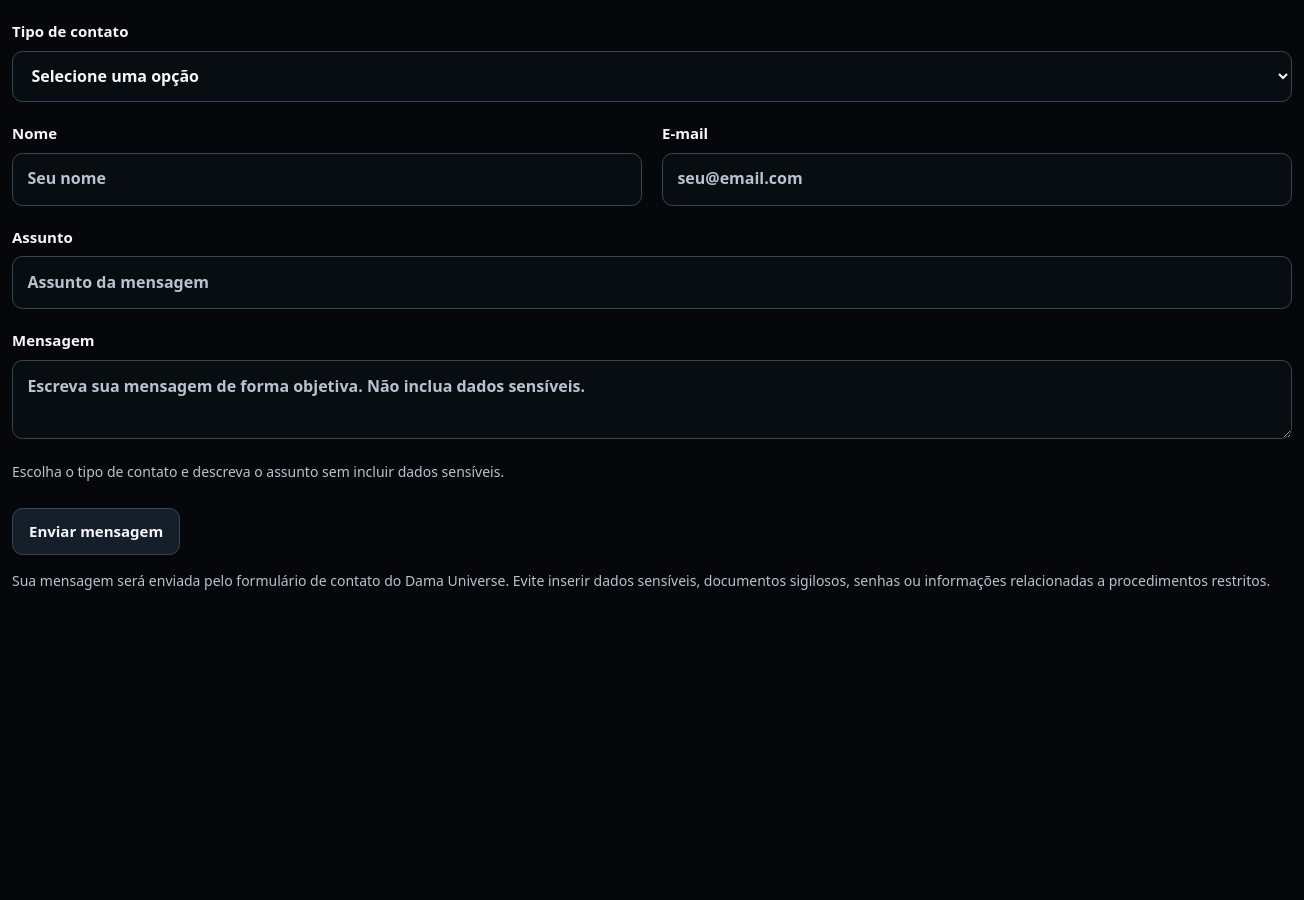
Test case: ContactForm › mostra erro para campos ausentes
Click the button "Enviar mensagem" at (96, 531), box [12,508,180,555]
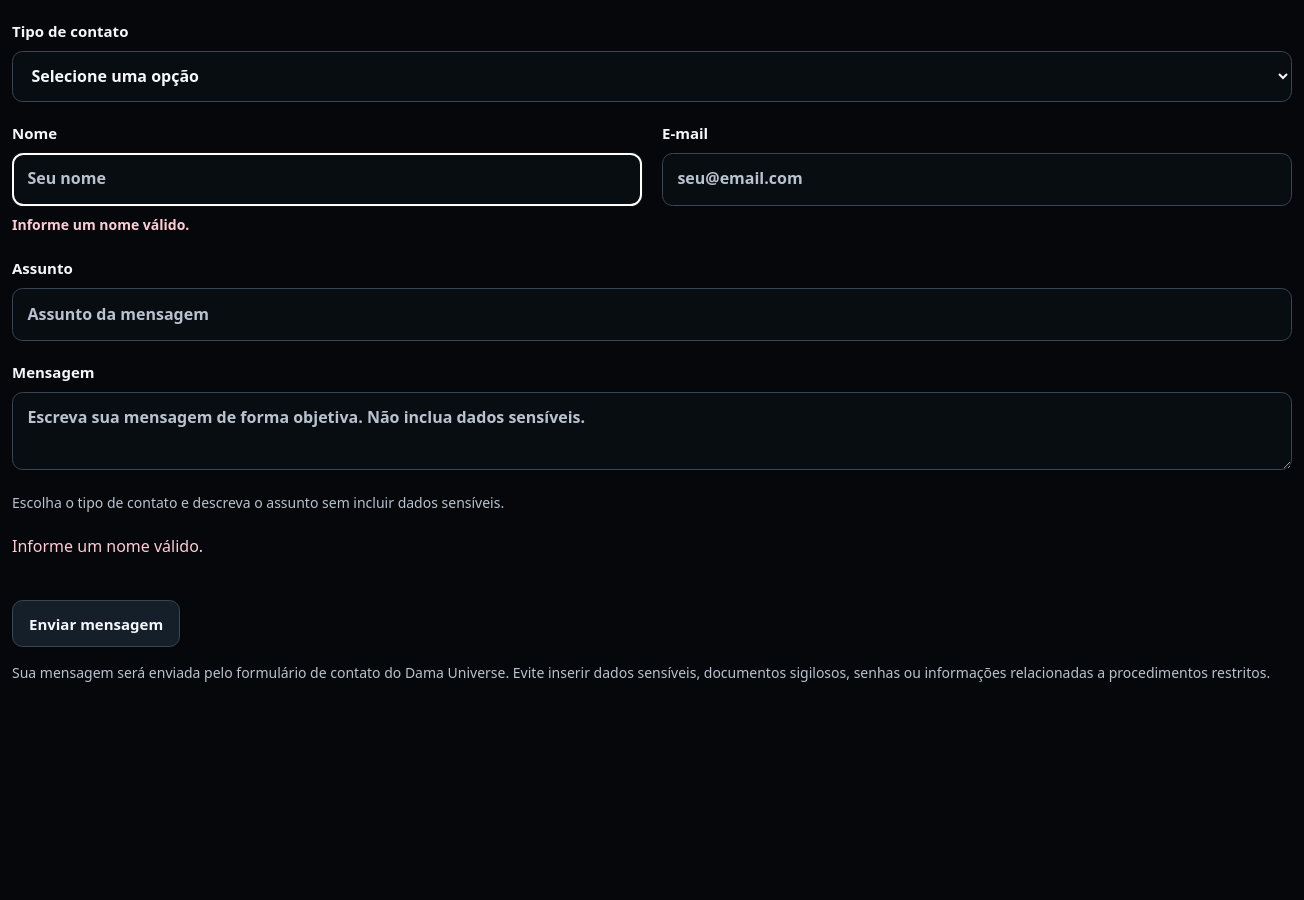
Check: the message reads "Informe um nome válido.", box [12,534,203,556]
